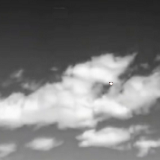Target: (108, 81, 114, 86)
